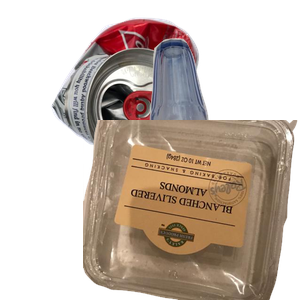glass: (147, 36, 300, 168)
metal: (48, 15, 251, 175)
plastic: (83, 120, 300, 300)
trash: (83, 160, 233, 300)
